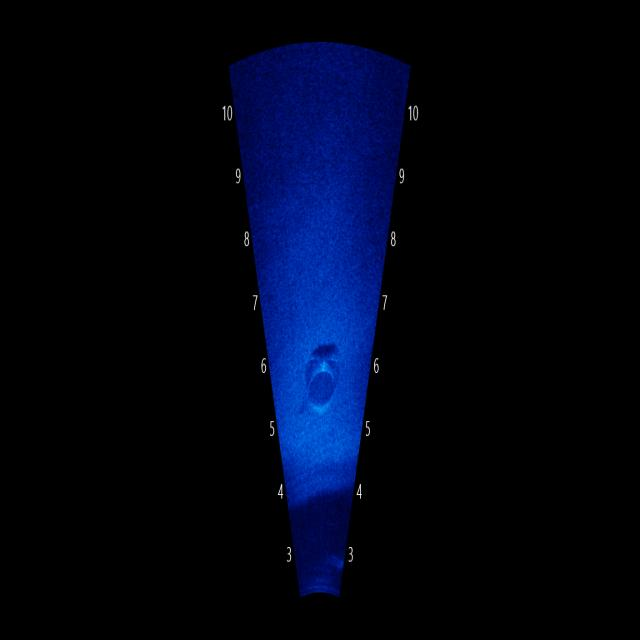circle: (302, 356, 340, 423)
